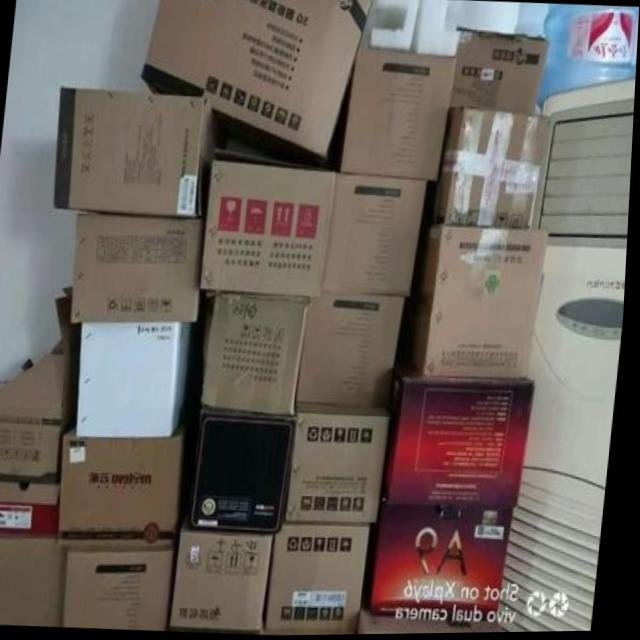box: (142, 0, 373, 157), (410, 228, 552, 381), (54, 88, 216, 219), (386, 371, 539, 507), (202, 149, 338, 299), (368, 497, 519, 618), (0, 287, 87, 487), (341, 47, 458, 180), (63, 423, 189, 546), (428, 111, 552, 231), (73, 214, 207, 323), (298, 291, 408, 415), (205, 291, 314, 416), (81, 320, 195, 438), (325, 175, 430, 298), (174, 518, 280, 632), (271, 525, 376, 636), (290, 414, 394, 524), (71, 546, 179, 632), (453, 31, 551, 119), (0, 538, 73, 628), (0, 481, 64, 535)
